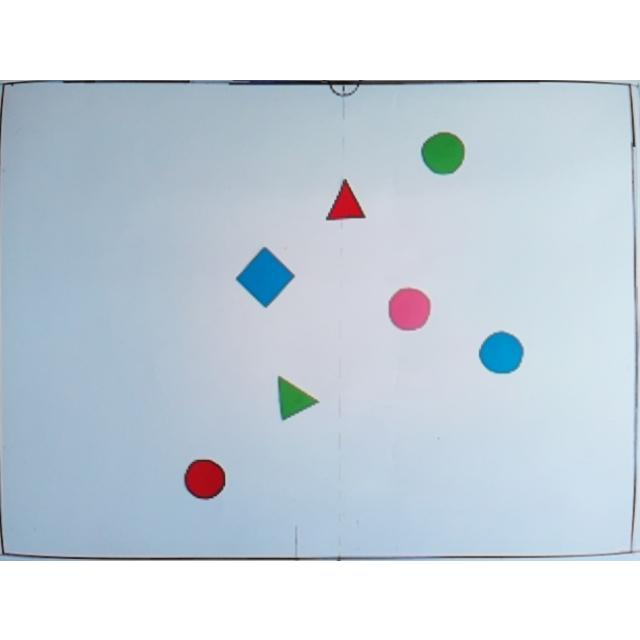blueCircle: (478, 328, 524, 374)
blueSquare: (235, 246, 295, 306)
greenCircle: (421, 131, 465, 173)
greenTriangle: (277, 374, 319, 420)
pinkCircle: (388, 285, 432, 331)
redCircle: (184, 458, 226, 498)
redTriangle: (326, 178, 368, 222)
